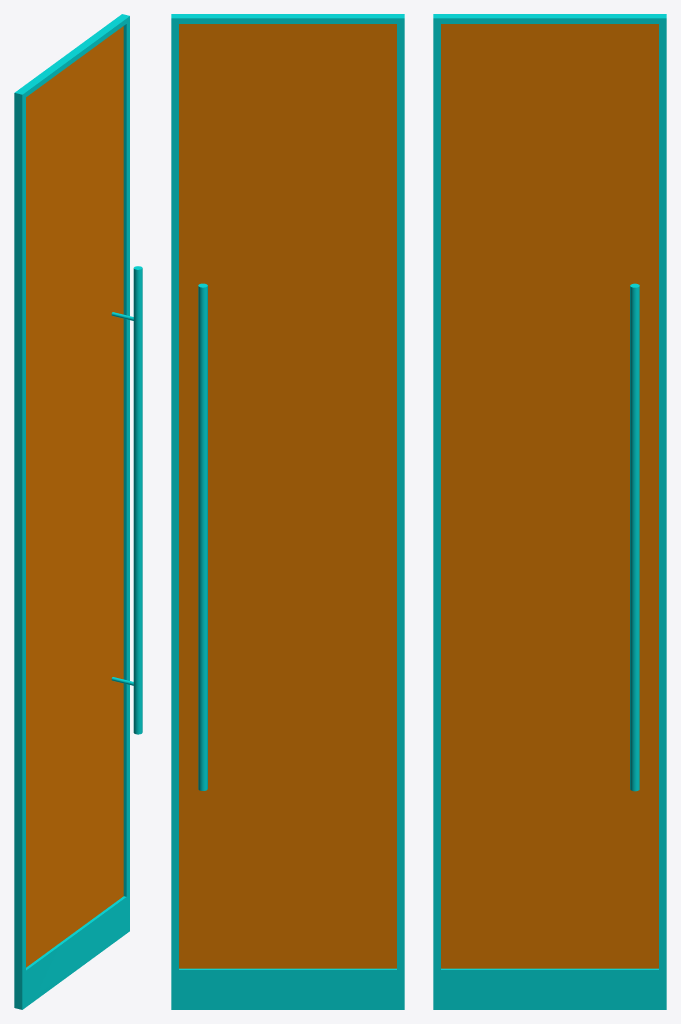
File: FrontDoor1.fbx
The picture shows the model from 3 angles, left to right: view 1: azimuth 30°, elevation 25°; view 2: azimuth 150°, elevation 25°; view 3: azimuth 330°, elevation 25°; orthographic projection. The views are drawn at different scales.
Parts seen in each view (by area): view 1: FrontDoor1; view 2: FrontDoor1; view 3: FrontDoor1.
Boxes of the visible parts, left/top/right/bottom form: FrontDoor1: left=14, top=14, right=142, bottom=1009; FrontDoor1: left=171, top=14, right=404, bottom=1009; FrontDoor1: left=433, top=14, right=666, bottom=1009.
Size of the model in its own units: 49.35 by 261 by 32.98.
